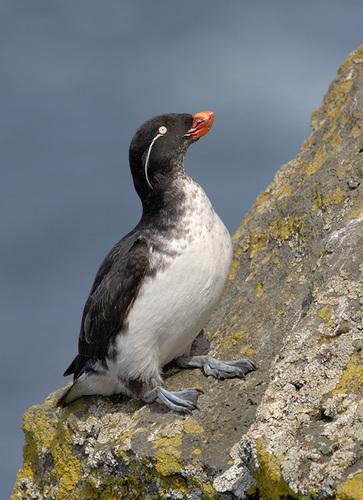007.Parakeet_Auklet: (60, 107, 258, 419)
